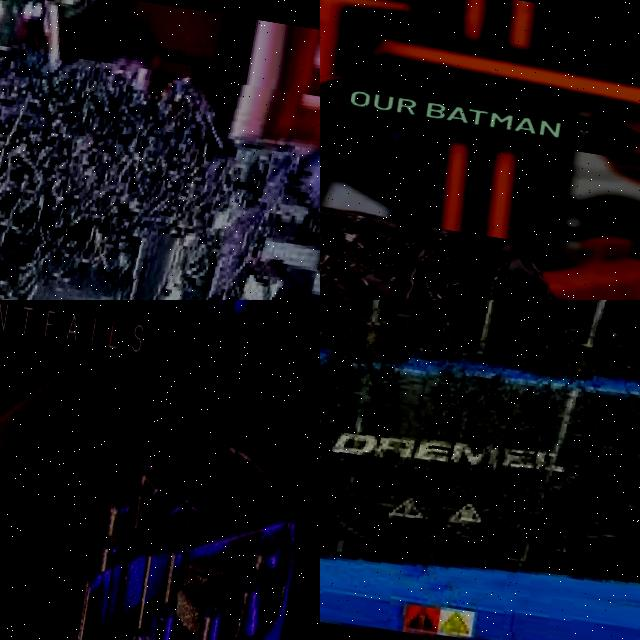spaghetti: (320, 300, 640, 640), (0, 48, 320, 300), (320, 179, 517, 300)
